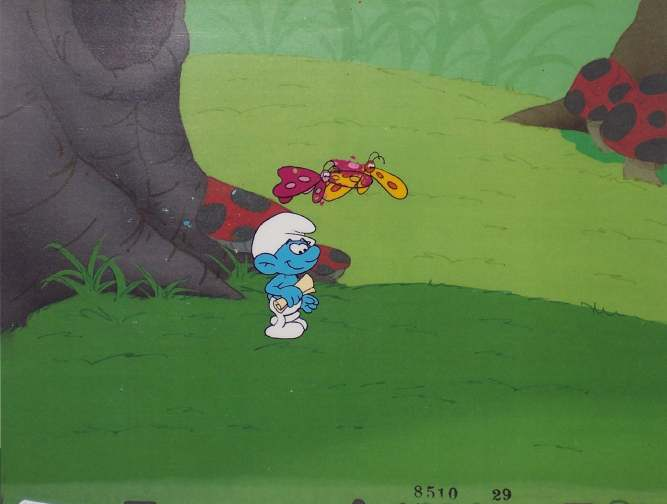smurf: (247, 210, 322, 342)
